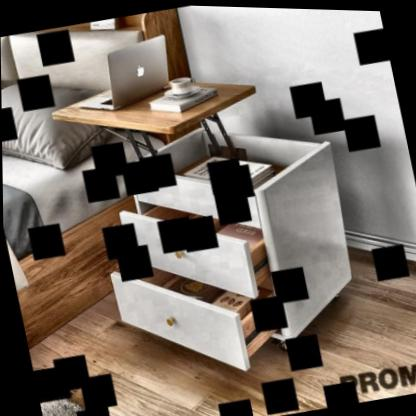Nightstand: (82, 106, 369, 396)
